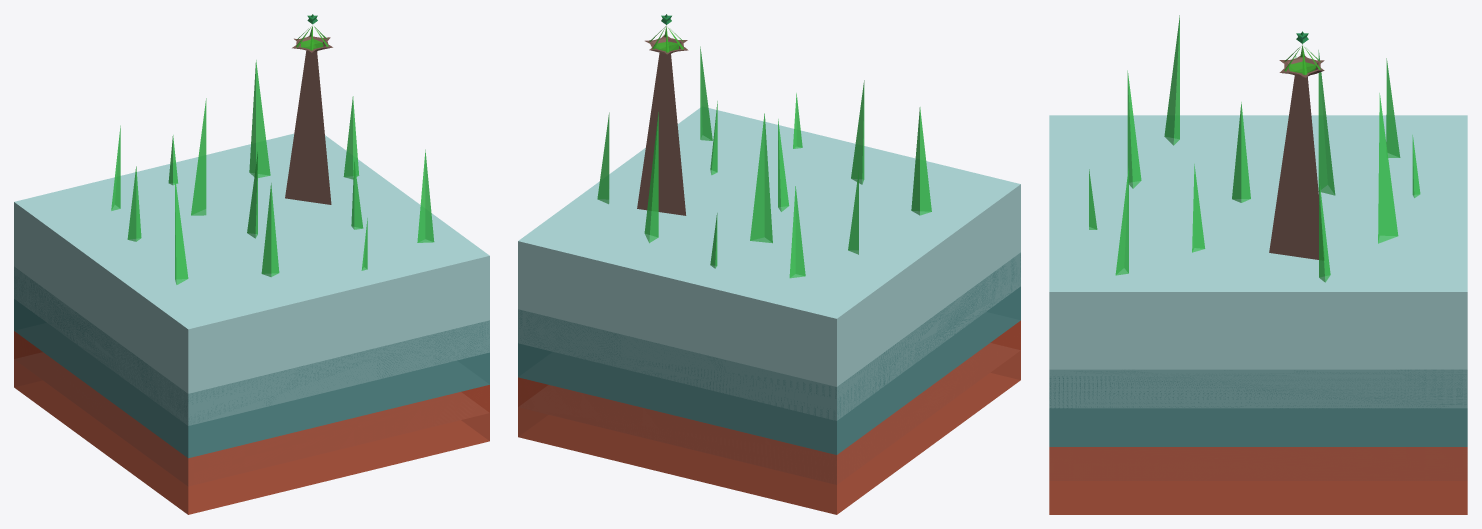
Rendered from BirbBath.dae.
The picture shows the model from 3 angles, left to right: view 1: azimuth 30°, elevation 25°; view 2: azimuth 150°, elevation 25°; view 3: azimuth 270°, elevation 25°; orthographic projection. The views are drawn at different scales.
Parts seen in each view (by area): view 1: SketchUp (×12), group_0; view 2: SketchUp (×13), group_0; view 3: SketchUp (×14), group_0.
Part boxes in pixels (x1,y1,x2,y2): SketchUp (×12): (14,60,489,514); group_0: (285,50,331,204); SketchUp (×13): (518,46,1020,514); group_0: (637,49,686,215); SketchUp (×14): (1049,15,1467,514); group_0: (1269,75,1318,259).
Size of the model in its own units: 283 by 283 by 329.
